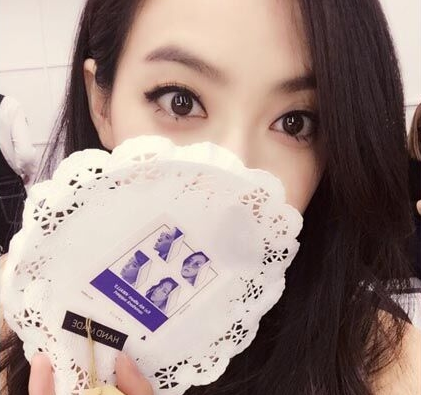face: (111, 1, 337, 292)
